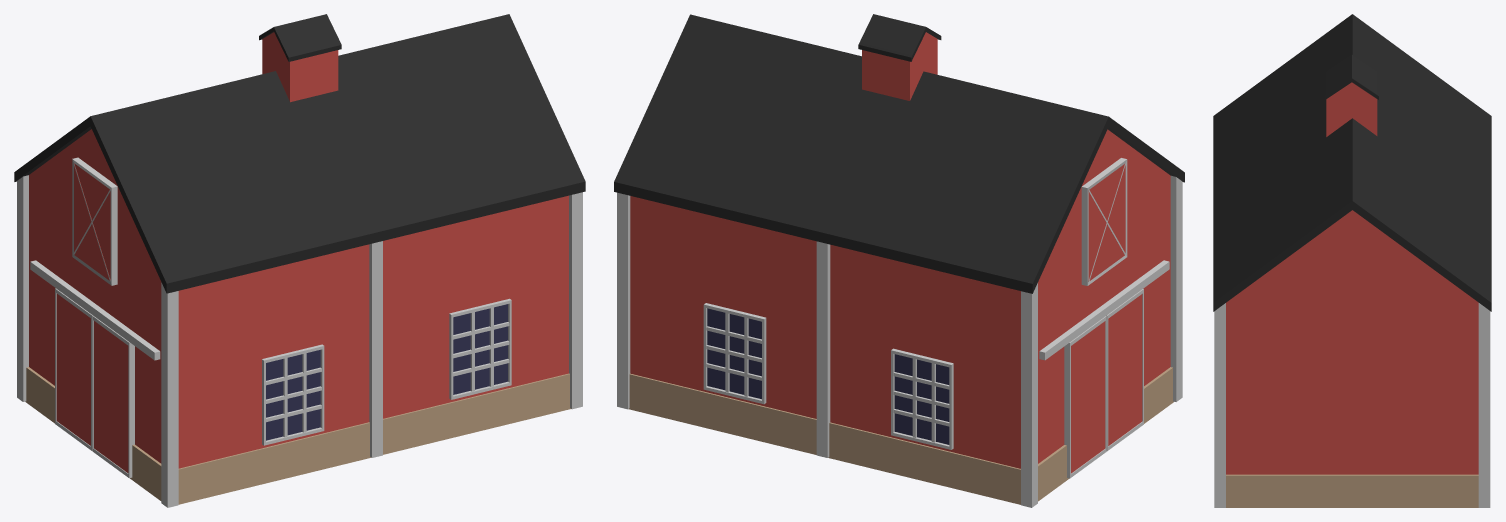
File: barn_small (1).fbx
The picture shows the model from 3 angles, left to right: view 1: azimuth 30°, elevation 25°; view 2: azimuth 150°, elevation 25°; view 3: azimuth 270°, elevation 25°; orthographic projection. The views are drawn at different scales.
Visible parts, largest first — view 1: Cube, Cube.037, Cube.012, Cube.013, Cube.001, Cube.036, Cube.002, Cube.015, Cube.023, Cube.020, Cube.016, Cube.038; view 2: Cube, Cube.036, Cube.011, Cube.010, Cube.037, Cube.001, Cube.002, Cube.016, Cube.019, Cube.022, Cube.015, Cube.038; view 3: Cube, Cube.001, Cube.022, Cube.023.
Boxes of the visible parts, <box> form: Cube: <box>14,14,585,504</box>; Cube.037: <box>92,315,134,478</box>; Cube.012: <box>262,344,324,445</box>; Cube.013: <box>449,298,511,399</box>; Cube.001: <box>259,14,341,102</box>; Cube.036: <box>55,288,92,450</box>; Cube.002: <box>72,157,117,285</box>; Cube.015: <box>161,282,178,507</box>; Cube.023: <box>569,192,582,409</box>; Cube.020: <box>369,241,382,457</box>; Cube.016: <box>17,175,28,401</box>; Cube.038: <box>30,260,160,360</box>; Cube: <box>614,14,1184,504</box>; Cube.036: <box>1064,316,1106,478</box>; Cube.011: <box>703,303,766,404</box>; Cube.010: <box>891,348,953,449</box>; Cube.037: <box>1106,289,1143,451</box>; Cube.001: <box>858,14,941,100</box>; Cube.002: <box>1081,158,1127,285</box>; Cube.016: <box>1021,283,1037,507</box>; Cube.019: <box>816,241,830,457</box>; Cube.022: <box>617,192,630,409</box>; Cube.015: <box>1170,175,1182,401</box>; Cube.038: <box>1039,260,1169,360</box>; Cube: <box>1213,14,1491,507</box>; Cube.001: <box>1324,55,1378,136</box>; Cube.022: <box>1478,303,1490,507</box>; Cube.023: <box>1214,303,1225,507</box>.
Size of the model in its own units: 785 by 686 by 495.
